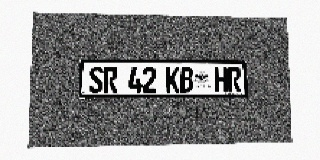2: (143, 67, 156, 93)
4: (128, 67, 142, 93)
B: (180, 67, 193, 92)
H: (214, 67, 228, 92)
K: (166, 67, 179, 93)
R: (103, 67, 118, 93), (228, 67, 241, 92)
S: (89, 67, 103, 93)
